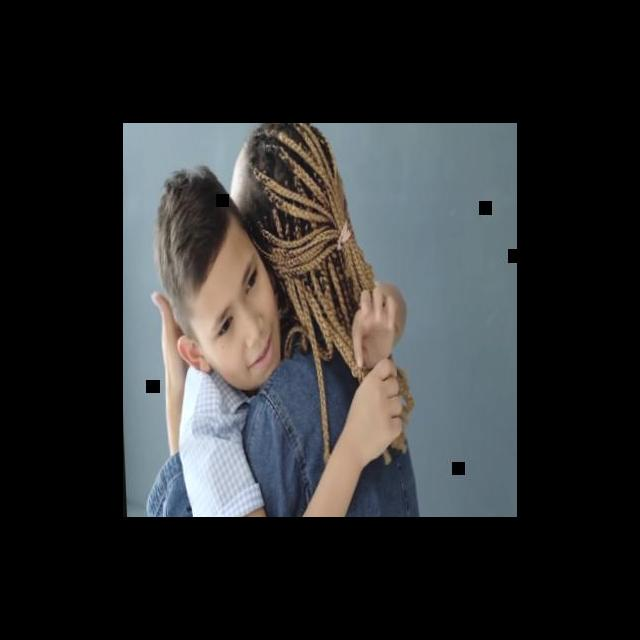male: (128, 171, 282, 398)
